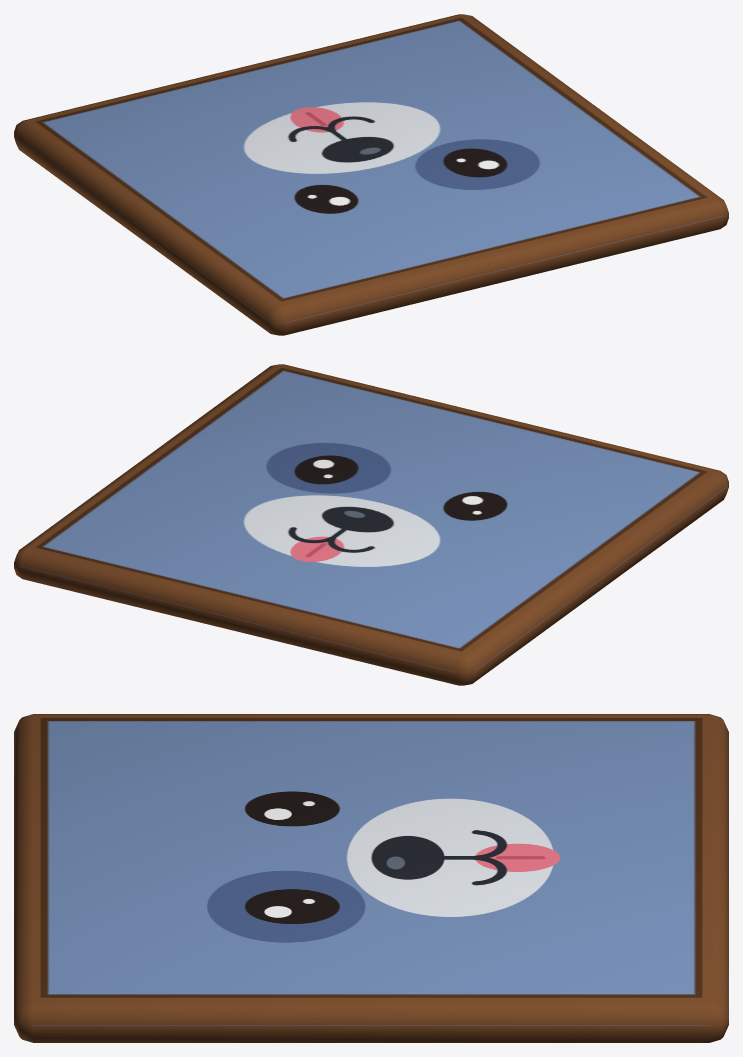
Rendered from DogGate_Tile.fbx.
The picture shows the model from 3 angles, top to bottom: view 1: azimuth 30°, elevation 25°; view 2: azimuth 150°, elevation 25°; view 3: azimuth 270°, elevation 25°; orthographic projection. The views are drawn at different scales.
Parts seen in each view (by area): view 1: DogGate_Tile; view 2: DogGate_Tile; view 3: DogGate_Tile.
Part boxes in pixels (box(x1,y1,x2,y2)): DogGate_Tile: box(14, 14, 728, 335); DogGate_Tile: box(14, 364, 728, 685); DogGate_Tile: box(14, 714, 728, 1042).
Bounding box in the file's own units: 0.94 × 0.06 × 0.94.
Materials: 1 (1 with a texture image).
